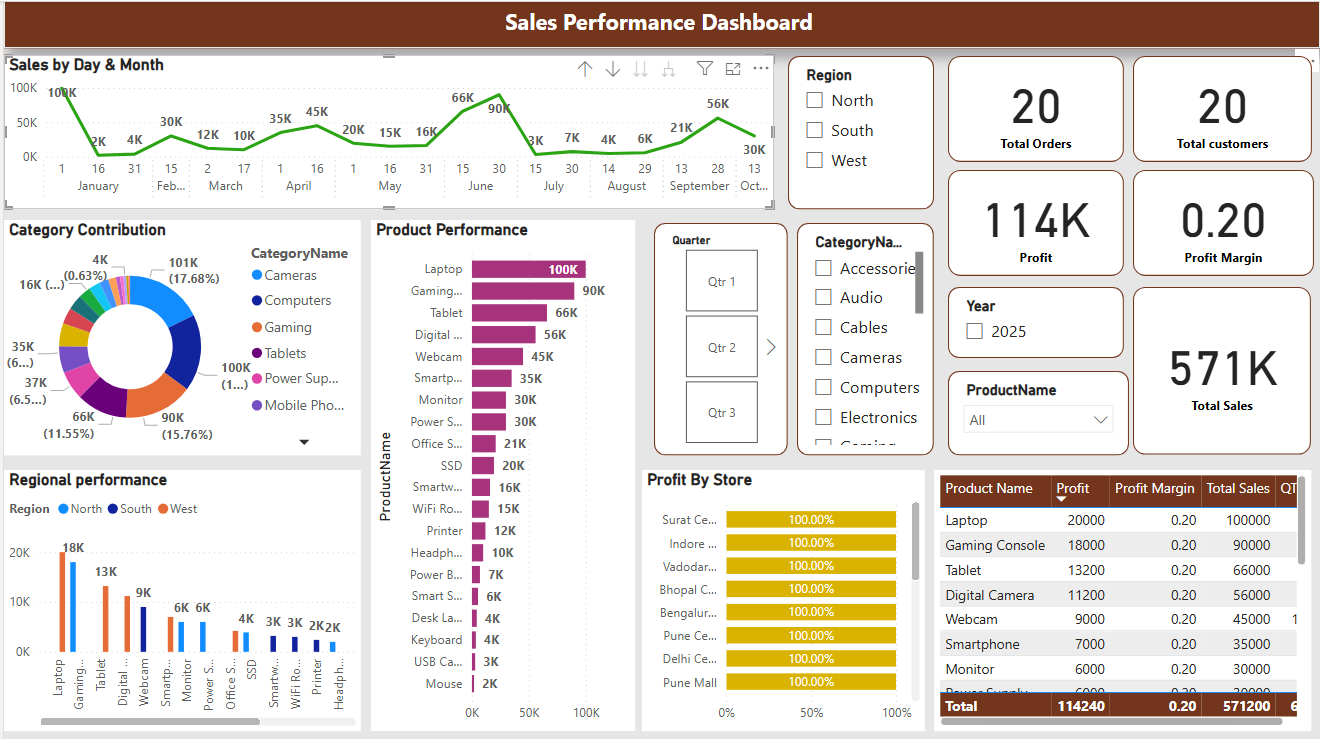

This screenshot's page, from the dashboard's own definition file:
{"tool":"powerbi","page":{"name":"Page 1","canvas":[1280,720],"ordinal":0},"visuals":[{"type":"textbox","box":[0,0,1280,45.7],"z":0},{"type":"card","fields":{"Values":["All Mesasures.Total Sales"]},"box":[1098.1,278.2,173.1,163.4],"z":1000},{"type":"card","fields":{"Values":["All Mesasures.Profit"]},"box":[918.2,164.4,171.2,103.1],"z":2000},{"type":"card","fields":{"Values":["All Mesasures.Profit Margin"]},"box":[1098.1,164.4,176,103.1],"z":3000},{"type":"card","fields":{"Values":["All Mesasures.Total Orders"]},"box":[918.2,53.5,171.2,103.1],"z":4000},{"type":"card","fields":{"Values":["All Mesasures.Total customers"]},"box":[1098.1,53.5,174.1,103.1],"z":5000},{"type":"slicer","fields":{"Values":["Product.ProductName"]},"box":[918.2,359.9,176,81.7],"z":5002},{"type":"slicer","fields":{"Values":["Category.CategoryName"]},"box":[771.3,215.9,133.3,225.7],"z":5003},{"type":"slicer","fields":{"Values":["Store.Region"]},"box":[762.6,53.5,142,148.8],"z":5004},{"type":"slicer","fields":{"Values":["Sales.Date.Variation.Date Hierarchy.Year"]},"box":[918.2,278.2,171.2,69.1],"z":5005},{"type":"slicer","fields":{"Values":["Sales.Date.Variation.Date Hierarchy.Quarter"]},"box":[632.2,215.9,130.3,225.7],"z":5006},{"type":"lineChart","title":"Sales by Day & Month","fields":{"Category":["Sales.Date.Variation.Date Hierarchy.Month","Sales.Date.Variation.Date Hierarchy.Day"],"Y":["Sum(Sales.SalesAmount)"]},"box":[0,52.5,748.9,149.8],"z":5007},{"type":"clusteredBarChart","title":"Product Performance","fields":{"Category":["Product.ProductName"],"Y":["All Mesasures.Total Sales"]},"box":[357,213,256.8,497],"z":5008},{"type":"donutChart","title":"Category Contribution","fields":{"Category":["Category.CategoryName"],"Y":["All Mesasures.Total Sales"]},"box":[0,213,347.2,228.6],"z":5009},{"type":"clusteredColumnChart","title":"Regional performance ","fields":{"Category":["Product.ProductName"],"Y":["All Mesasures.Profit"],"Series":["Customer.Region"]},"box":[0,456.2,347.2,253.9],"z":5010},{"type":"hundredPercentStackedBarChart","title":"Profit By Store","fields":{"Category":["Store.StoreName"],"Y":["All Mesasures.Profit"]},"box":[620.5,456.2,275.3,253.9],"z":5011},{"type":"tableEx","title":"Product performance ","fields":{"Values":["Product.ProductName","All Mesasures.Profit","All Mesasures.Profit Margin","All Mesasures.Total Sales","Sum(Sales.Quantity)"]},"box":[904.6,456.2,366.7,253.9],"z":5012}]}

Visuals, with their boxes in screenshot pixels (x1, y1, x2, y2), scaled from the page's 1280x720 canvas onto the 1320x739 screenshot:
textbox: [x1=0, y1=0, x2=1319, y2=47]
card - All Mesasures.Total Sales: [x1=1132, y1=286, x2=1311, y2=453]
card - All Mesasures.Profit: [x1=947, y1=169, x2=1123, y2=275]
card - All Mesasures.Profit Margin: [x1=1132, y1=169, x2=1314, y2=275]
card - All Mesasures.Total Orders: [x1=947, y1=55, x2=1123, y2=161]
card - All Mesasures.Total customers: [x1=1132, y1=55, x2=1312, y2=161]
slicer - Product.ProductName: [x1=947, y1=369, x2=1128, y2=453]
slicer - Category.CategoryName: [x1=795, y1=222, x2=933, y2=453]
slicer - Store.Region: [x1=786, y1=55, x2=933, y2=208]
slicer - Sales.Date.Variation.Date Hierarchy.Year: [x1=947, y1=286, x2=1123, y2=356]
slicer - Sales.Date.Variation.Date Hierarchy.Quarter: [x1=652, y1=222, x2=786, y2=453]
"Sales by Day & Month" lineChart: [x1=0, y1=54, x2=772, y2=208]
"Product Performance" clusteredBarChart: [x1=368, y1=219, x2=633, y2=729]
"Category Contribution" donutChart: [x1=0, y1=219, x2=358, y2=453]
"Regional performance " clusteredColumnChart: [x1=0, y1=468, x2=358, y2=729]
"Profit By Store" hundredPercentStackedBarChart: [x1=640, y1=468, x2=924, y2=729]
"Product performance " tableEx: [x1=933, y1=468, x2=1311, y2=729]
